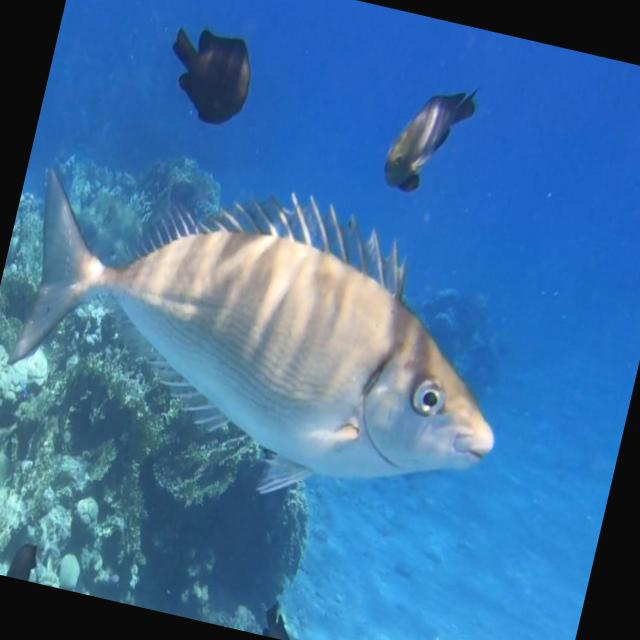Sokar Baligi: (0, 125, 563, 558)
